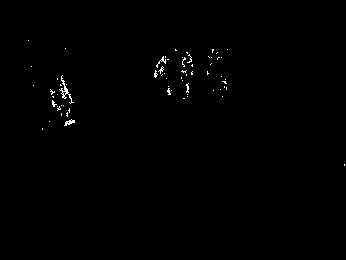person: (50, 76, 75, 126), (178, 52, 197, 101), (153, 56, 173, 95)
